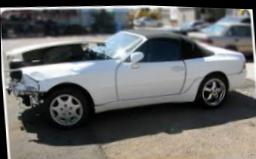Bonnet: (5, 38, 113, 67)
Bumper: (5, 76, 43, 112)
Light: (6, 70, 21, 89)
